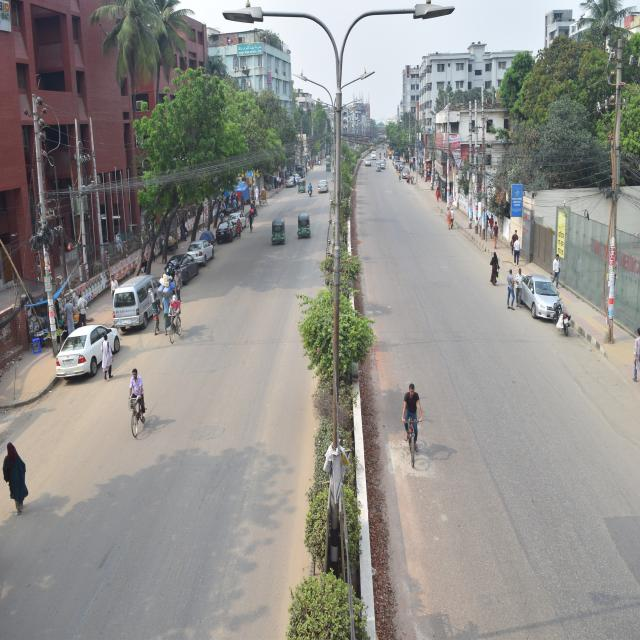car: (56, 316, 122, 372), (515, 252, 557, 324), (220, 203, 252, 234), (208, 210, 233, 245), (162, 262, 195, 285), (189, 242, 210, 269), (316, 176, 332, 197), (284, 170, 297, 192)
microbus: (112, 263, 164, 320)
motorbike: (545, 298, 582, 340)
